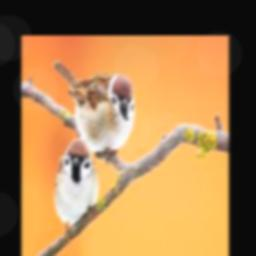Sparrow: (53, 60, 134, 164), (53, 137, 99, 244)
